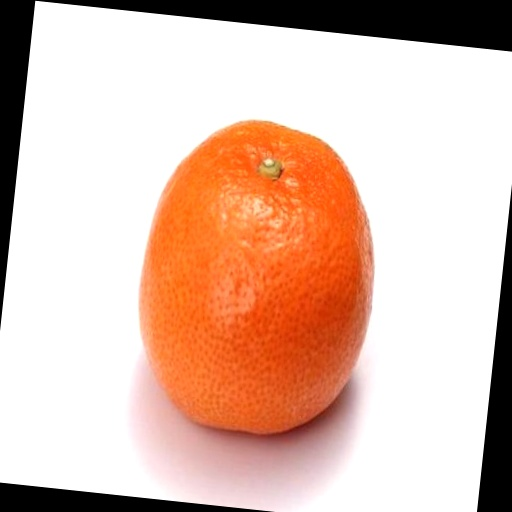fruit: (139, 121, 373, 434)
